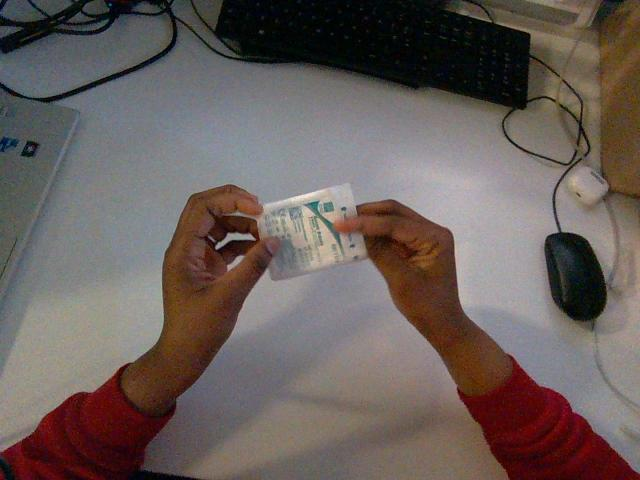gauze: (257, 184, 366, 279)
